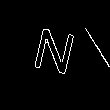N_S: (30, 26, 80, 84)
